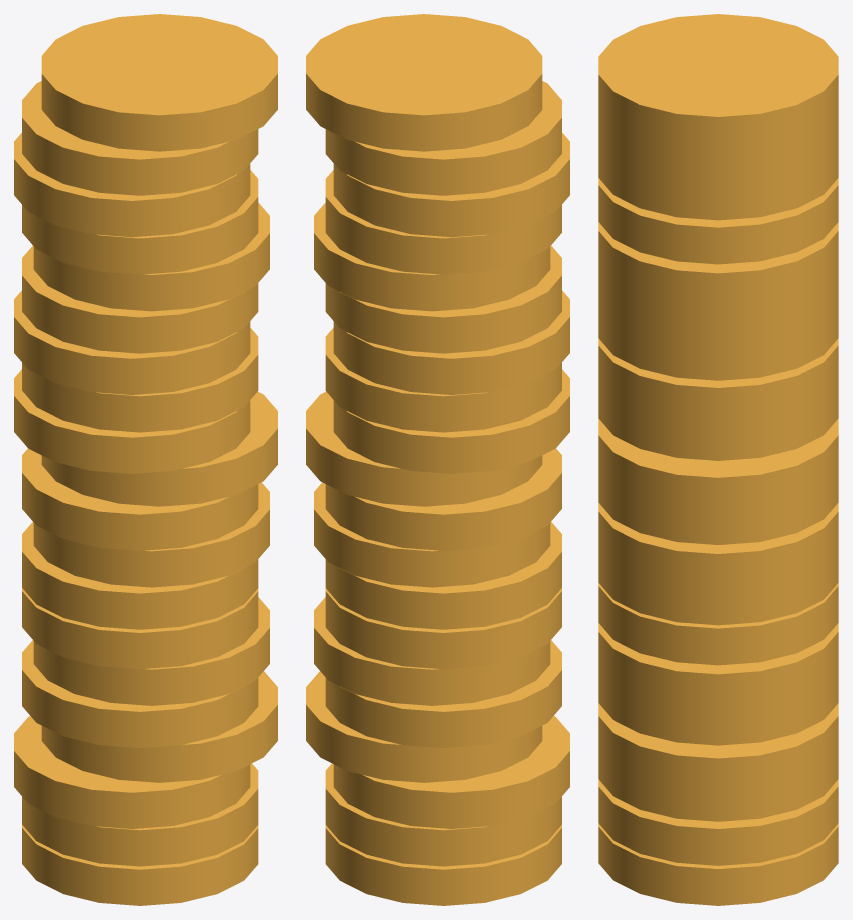
Rendered from Gold Coin Stack 001.FBX.
3 renders of one model, left to right at view 1: azimuth 30°, elevation 25°; view 2: azimuth 150°, elevation 25°; view 3: azimuth 270°, elevation 25°, orthographic.
Visible parts, largest first — view 1: Gold Coin019, Gold Coin002, Gold Coin018, Gold Coin009, Gold Coin014, Gold Coin004, Gold Coin007, Gold Coin011, Gold Coin013, Gold Coin017, Gold Coin, Gold Coin006 (+8 smaller); view 2: Gold Coin019, Gold Coin002, Gold Coin018, Gold Coin009, Gold Coin014, Gold Coin004, Gold Coin007, Gold Coin011, Gold Coin013, Gold Coin017, Gold Coin, Gold Coin006 (+8 smaller); view 3: Gold Coin019, Gold Coin010, Gold Coin003, Gold Coin008, Gold Coin005, Gold Coin015, Gold Coin001, Gold Coin012, Gold Coin016, Gold Coin, Gold Coin006, Gold Coin013 (+8 smaller).
Boxes of the visible parts, x1=… form: Gold Coin019: x1=41, y1=14, x2=277, y2=151; Gold Coin002: x1=14, y1=716, x2=250, y2=828; Gold Coin018: x1=22, y1=81, x2=258, y2=195; Gold Coin009: x1=22, y1=448, x2=258, y2=550; Gold Coin014: x1=22, y1=245, x2=258, y2=353; Gold Coin004: x1=22, y1=640, x2=258, y2=748; Gold Coin007: x1=22, y1=522, x2=258, y2=629; Gold Coin011: x1=14, y1=369, x2=250, y2=473; Gold Coin013: x1=14, y1=290, x2=250, y2=394; Gold Coin017: x1=14, y1=133, x2=250, y2=237; Gold Coin: x1=22, y1=825, x2=258, y2=905; Gold Coin006: x1=22, y1=588, x2=258, y2=669; Gold Coin019: x1=306, y1=14, x2=542, y2=151; Gold Coin002: x1=333, y1=716, x2=569, y2=828; Gold Coin018: x1=325, y1=81, x2=561, y2=195; Gold Coin009: x1=325, y1=448, x2=561, y2=550; Gold Coin014: x1=325, y1=245, x2=561, y2=353; Gold Coin004: x1=325, y1=640, x2=561, y2=748; Gold Coin007: x1=325, y1=522, x2=561, y2=629; Gold Coin011: x1=333, y1=369, x2=569, y2=473; Gold Coin013: x1=333, y1=290, x2=569, y2=394; Gold Coin017: x1=333, y1=133, x2=569, y2=237; Gold Coin: x1=325, y1=825, x2=561, y2=905; Gold Coin006: x1=325, y1=588, x2=561, y2=669; Gold Coin019: x1=598, y1=14, x2=838, y2=153; Gold Coin010: x1=598, y1=418, x2=838, y2=514; Gold Coin003: x1=598, y1=703, x2=838, y2=795; Gold Coin008: x1=598, y1=503, x2=838, y2=590; Gold Coin005: x1=598, y1=623, x2=838, y2=711; Gold Coin015: x1=598, y1=222, x2=838, y2=310; Gold Coin001: x1=598, y1=779, x2=838, y2=865; Gold Coin012: x1=598, y1=338, x2=838, y2=424; Gold Coin016: x1=598, y1=178, x2=838, y2=264; Gold Coin: x1=598, y1=823, x2=838, y2=905; Gold Coin006: x1=598, y1=583, x2=838, y2=665; Gold Coin013: x1=598, y1=302, x2=838, y2=380.
Size of the model in its own units: 0.0679 by 0.2168 by 0.0591.
